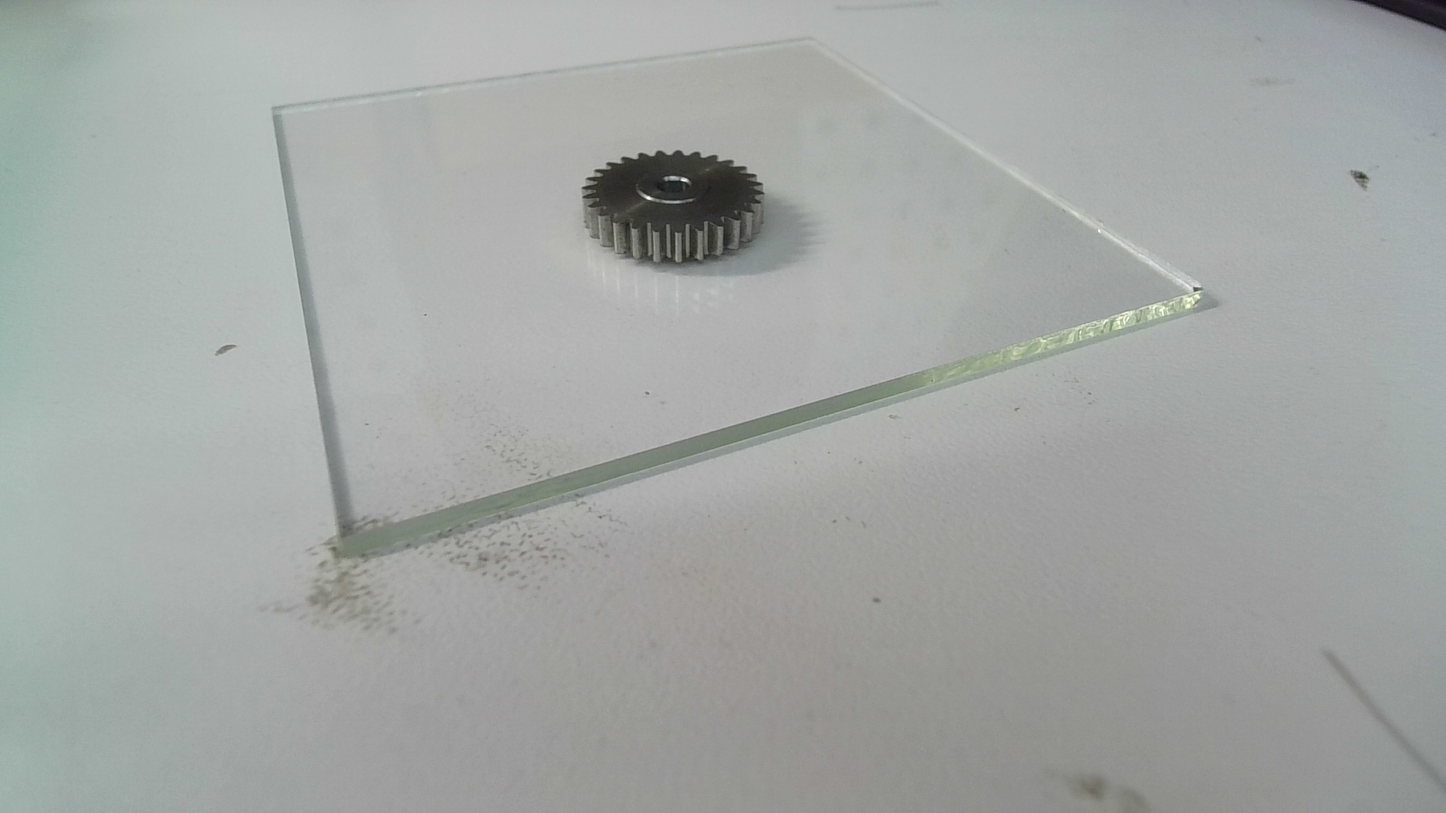gear: (576, 146, 769, 269)
